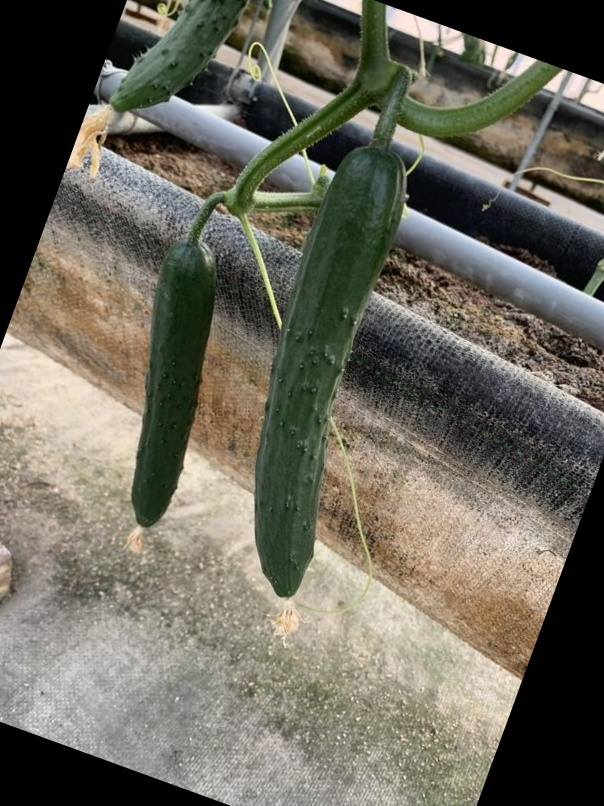mature: (249, 146, 408, 612), (102, 234, 227, 528)
